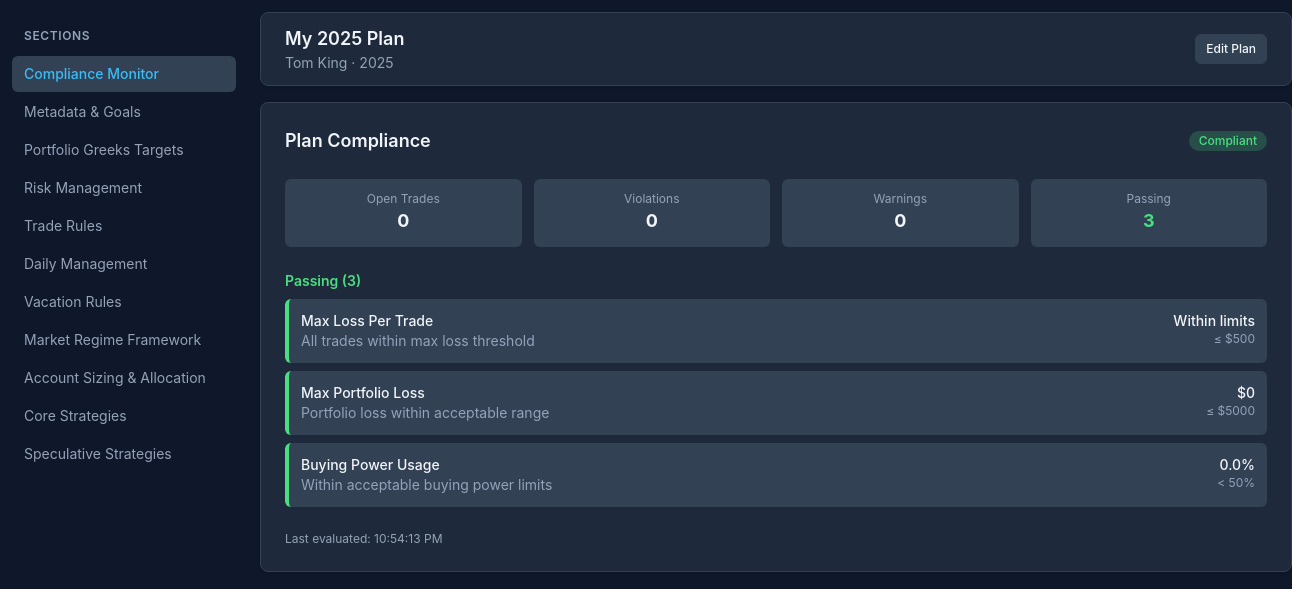
Test: PlanViewer › navigates to Vacation Rules section
The width and height of the screenshot is (1292, 589).
Click the button "Vacation Rules": (124, 302) x1=12 y1=284 x2=236 y2=320
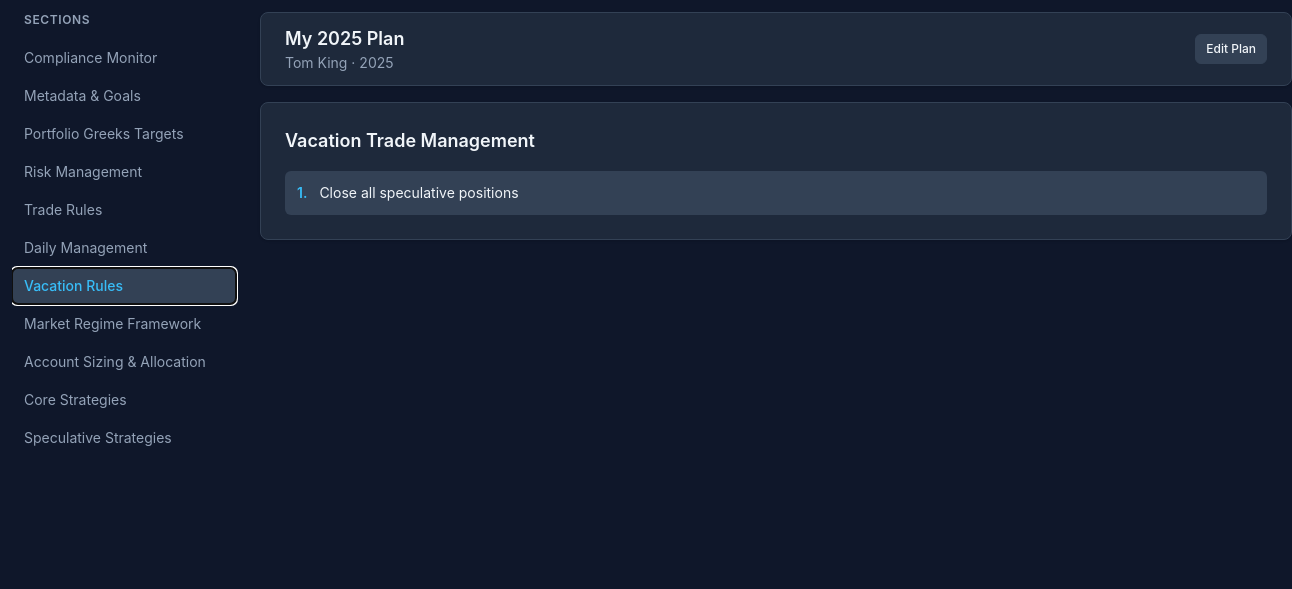
Check: the text "Close all speculative positions" is shown, box x1=319 y1=183 x2=519 y2=203
